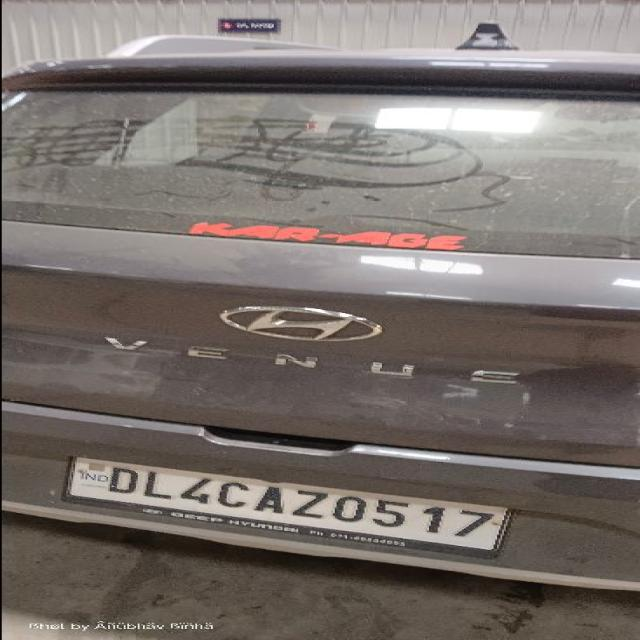license_plate: (1, 400, 636, 591), (59, 454, 514, 559)
